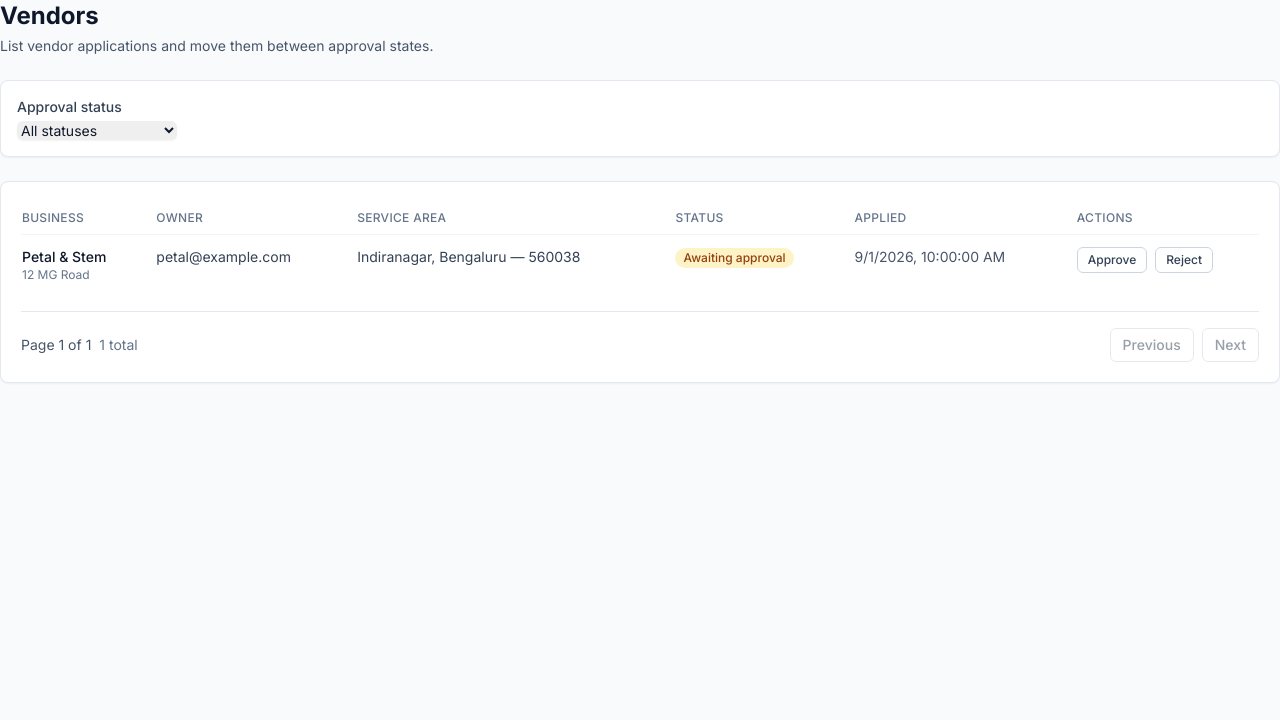
Test: AdminVendorsPage › keeps the dialog open and shows the backend message when a transition conflicts
The width and height of the screenshot is (1280, 720).
Expected: the table is shown, [21,202,1259,295]
Step 1. Click the button "Approve" → (1112, 260), box [1077,247,1147,273]
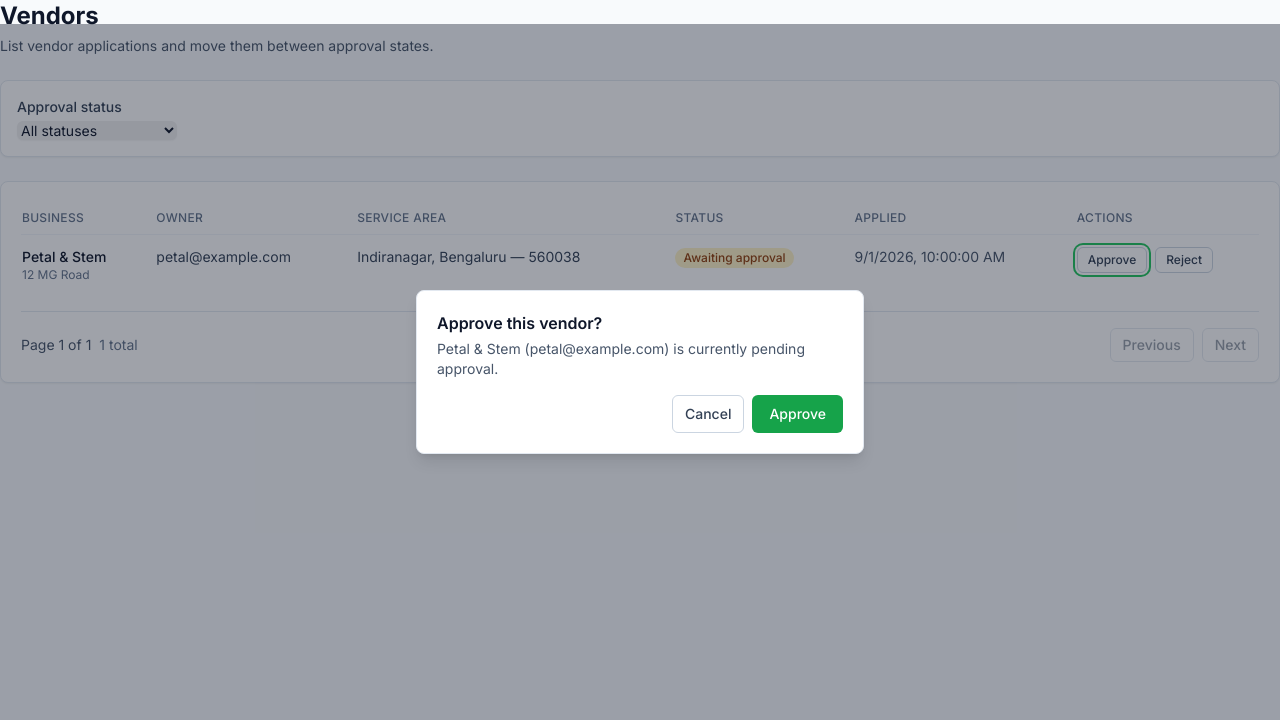
Step 2. Click the button "Approve" → (798, 414), box [752,395,843,433]
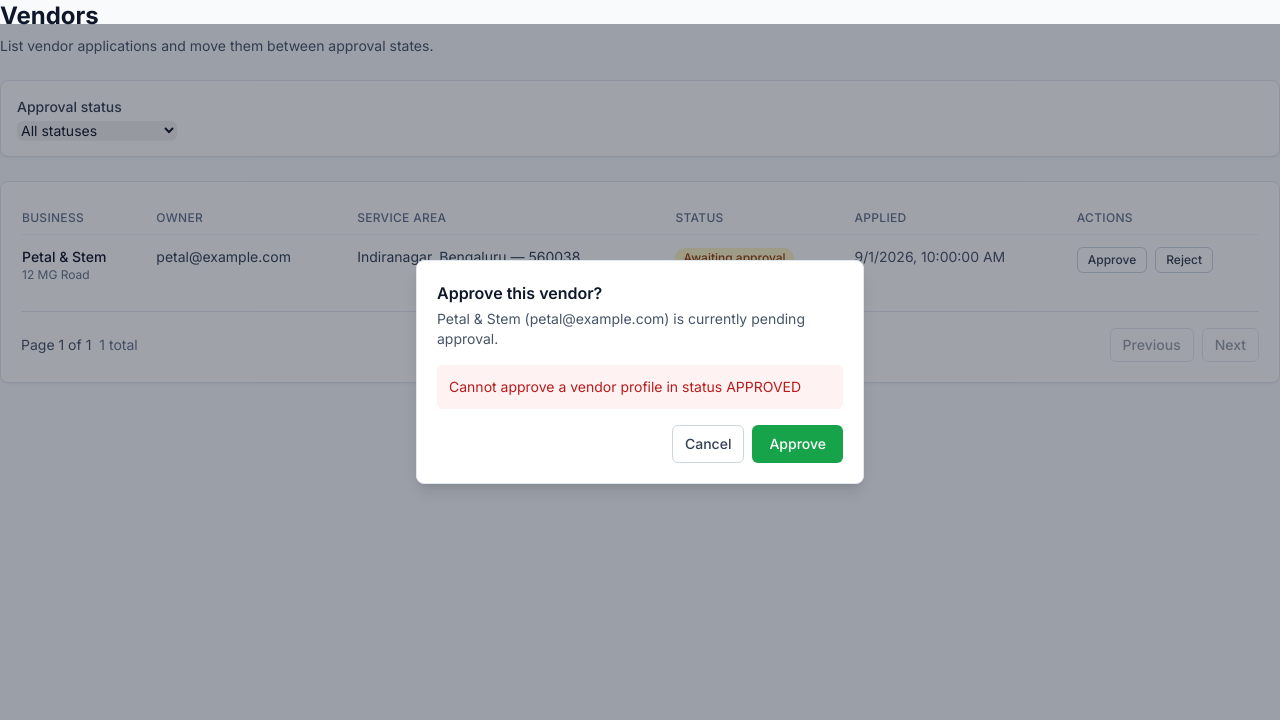
Now the dialog is shown, box [416,260,864,484]
Now the message reads "Cannot approve a vendor profile in status APPROVED", box [449,378,801,395]
